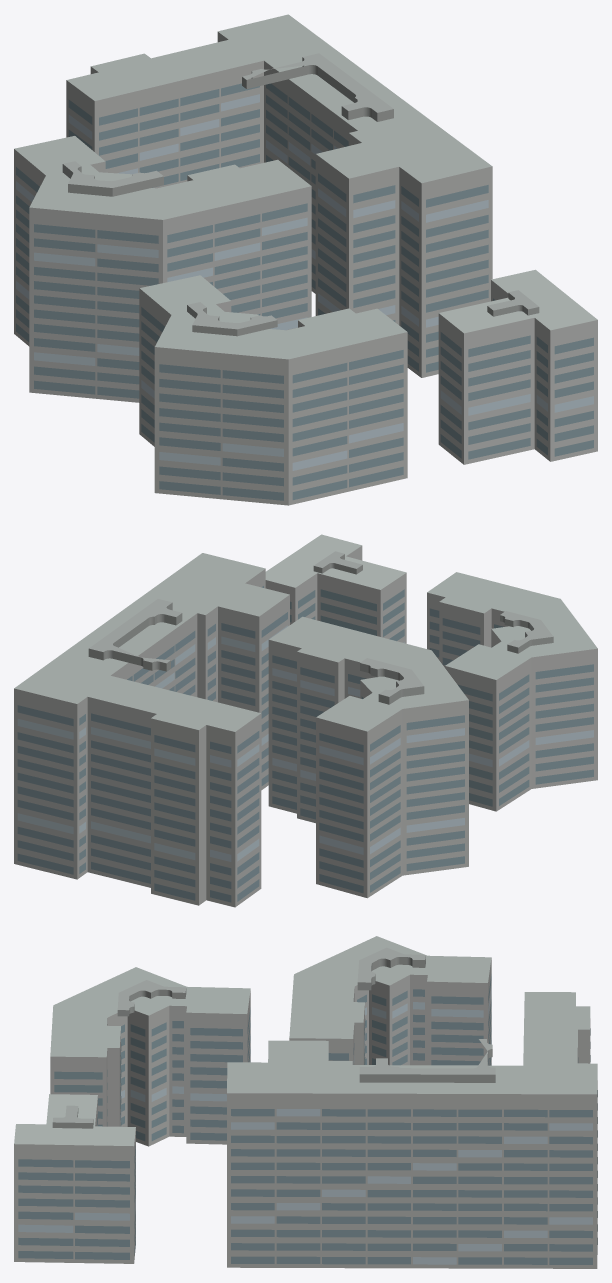
File: apt-a15722009.glb
The picture shows the model from 3 angles, top to bottom: view 1: azimuth 30°, elevation 25°; view 2: azimuth 150°, elevation 25°; view 3: azimuth 270°, elevation 25°; orthographic projection. The views are drawn at different scales.
Visible parts, largest first — view 1: apt-a15722009; view 2: apt-a15722009; view 3: apt-a15722009.
Boxes of the visible parts, x1=… form: apt-a15722009: x1=14, y1=14, x2=597, y2=505; apt-a15722009: x1=14, y1=534, x2=597, y2=907; apt-a15722009: x1=14, y1=936, x2=597, y2=1268.
Size of the model in its own units: 80.29 by 40 by 116.
